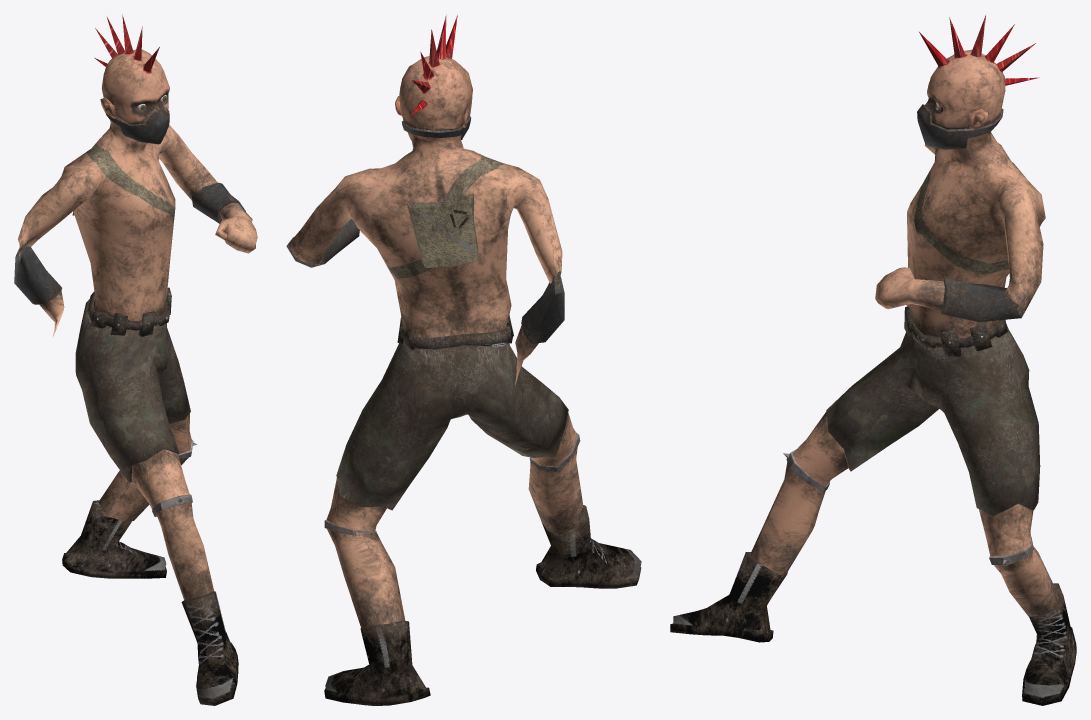
The model's file is Anim_ataque_f2_npc2.0025.obj.
The picture shows the model from 3 angles, left to right: view 1: azimuth 30°, elevation 25°; view 2: azimuth 150°, elevation 25°; view 3: azimuth 270°, elevation 25°; orthographic projection. The views are drawn at different scales.
Visible parts, largest first — view 1: polySurface1; view 2: polySurface1; view 3: polySurface1.
Boxes of the visible parts, left/top/right/bottom form: polySurface1: left=14, top=14, right=257, bottom=705; polySurface1: left=286, top=15, right=641, bottom=705; polySurface1: left=670, top=15, right=1076, bottom=705.
Bounding box in the file's own units: 3.9 × 9.67 × 5.43.
Materials: 2 (2 with a texture image).
